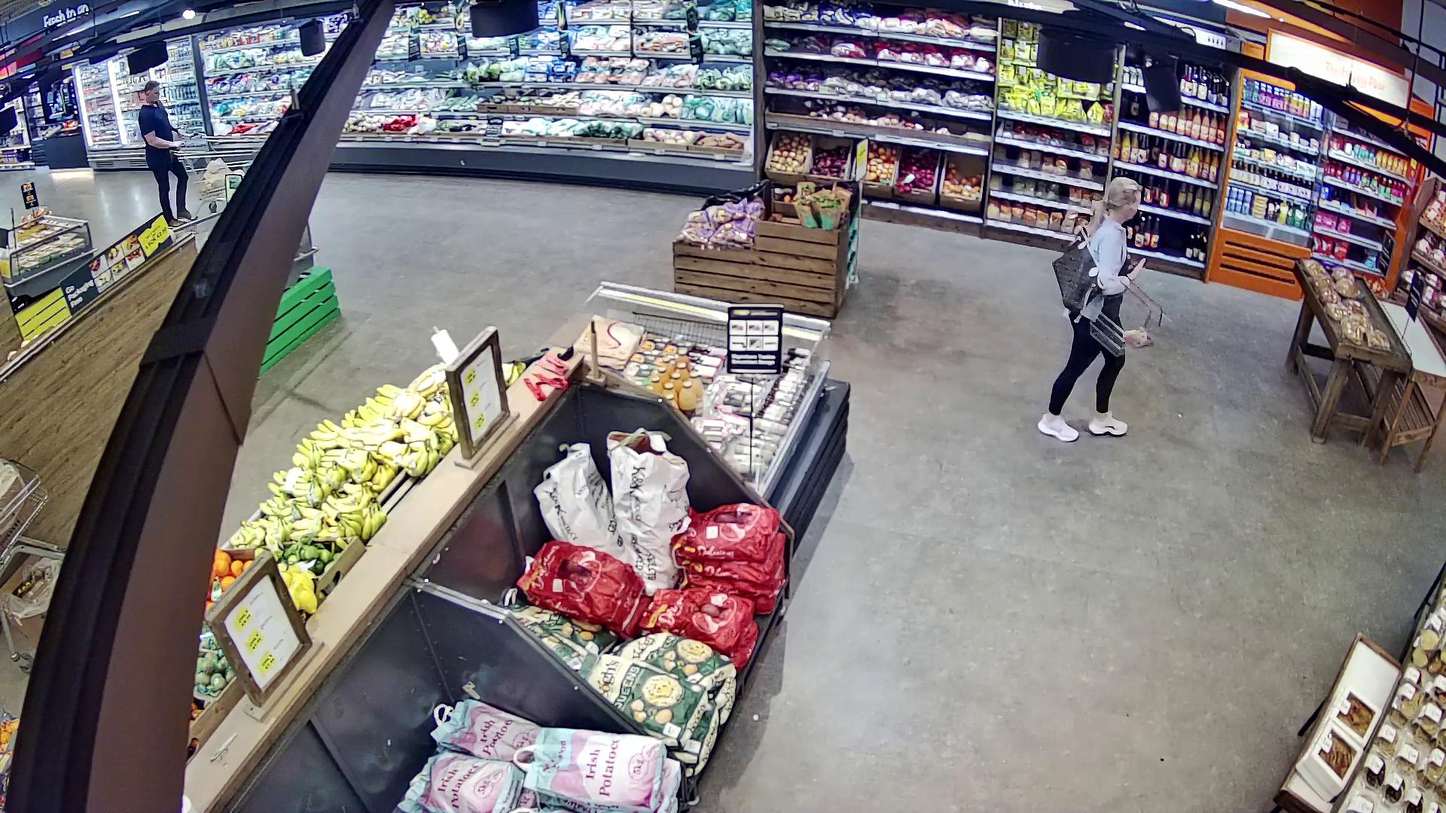backpack-or-handbag: (1053, 227, 1102, 307)
empty-basket: (1090, 275, 1163, 358)
person: (1040, 176, 1174, 447)
person-with-basket-trolly-and-backpack-handbag: (1037, 177, 1145, 443)
